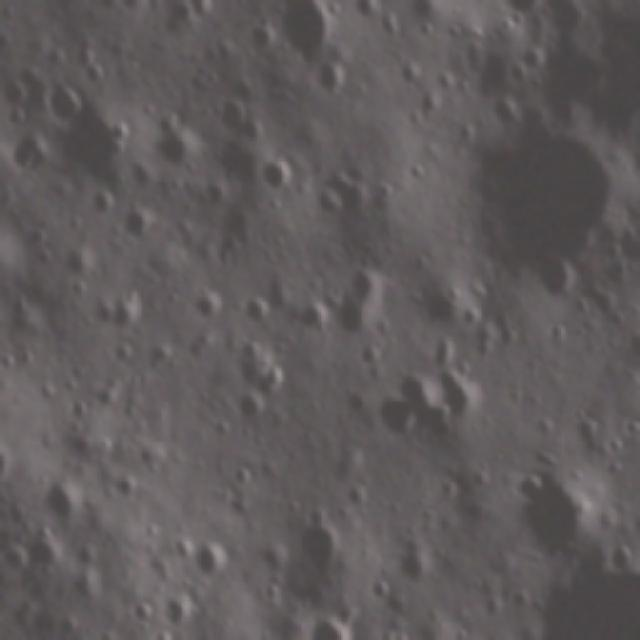crater: (486, 128, 612, 280), (529, 467, 609, 565), (276, 516, 350, 582), (279, 0, 334, 52), (44, 73, 88, 124), (194, 283, 231, 320), (194, 542, 229, 581), (44, 486, 82, 519), (266, 151, 292, 198), (232, 394, 266, 428), (304, 295, 327, 334), (36, 538, 61, 572)
